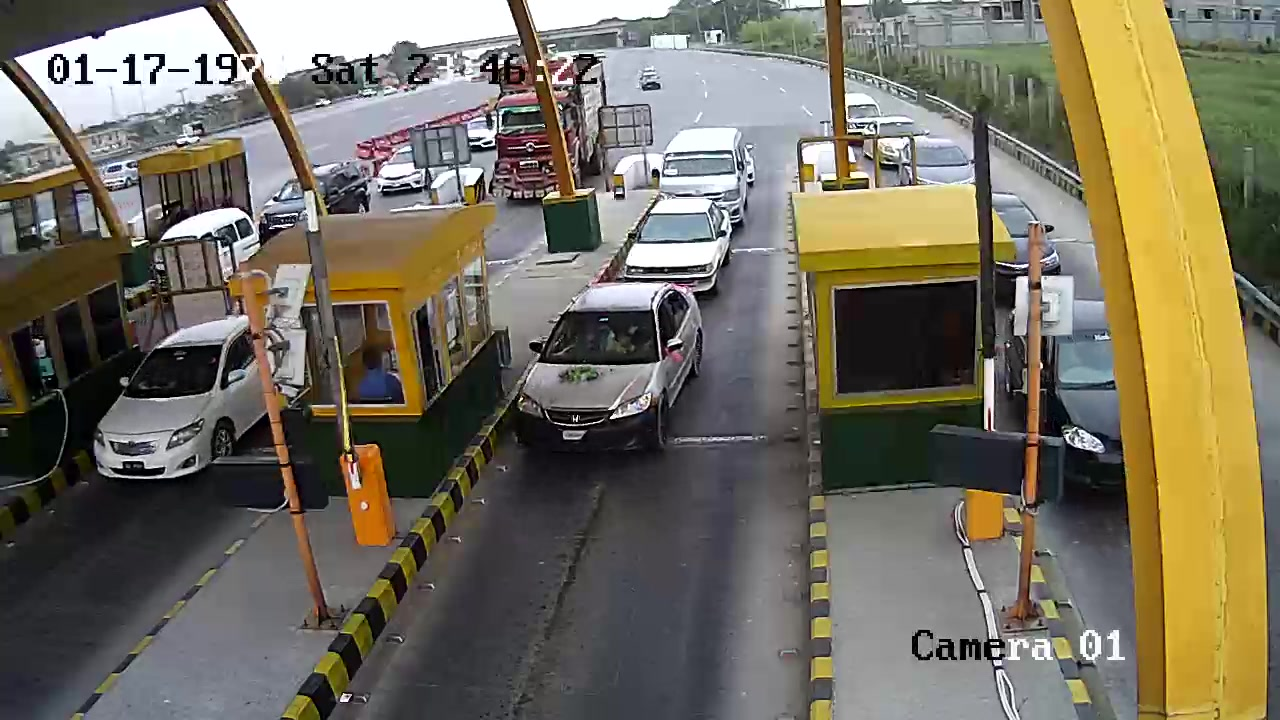F1: (494, 275, 720, 473)
